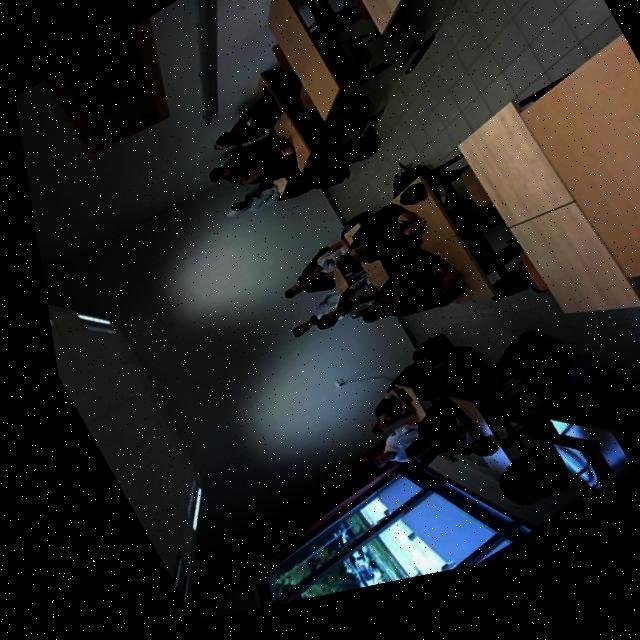phone_use: (297, 203, 423, 325), (324, 247, 460, 325), (209, 133, 297, 209), (292, 281, 375, 335), (289, 0, 355, 39), (216, 0, 269, 34)
